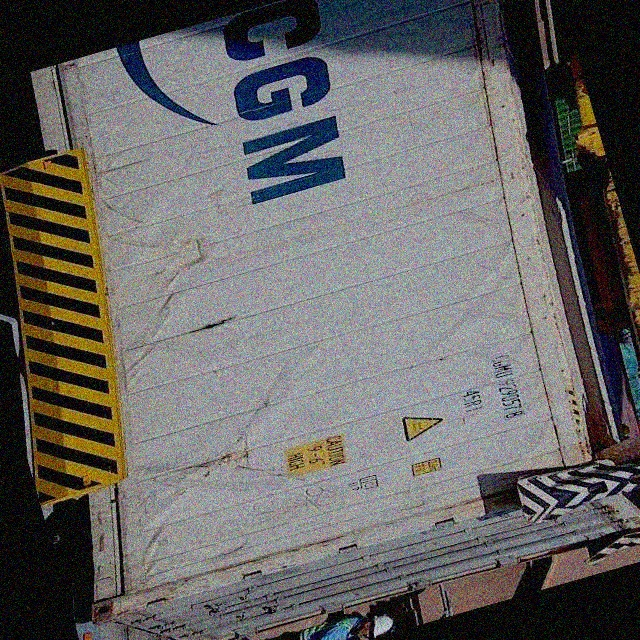Dent: (66, 135, 259, 387)
